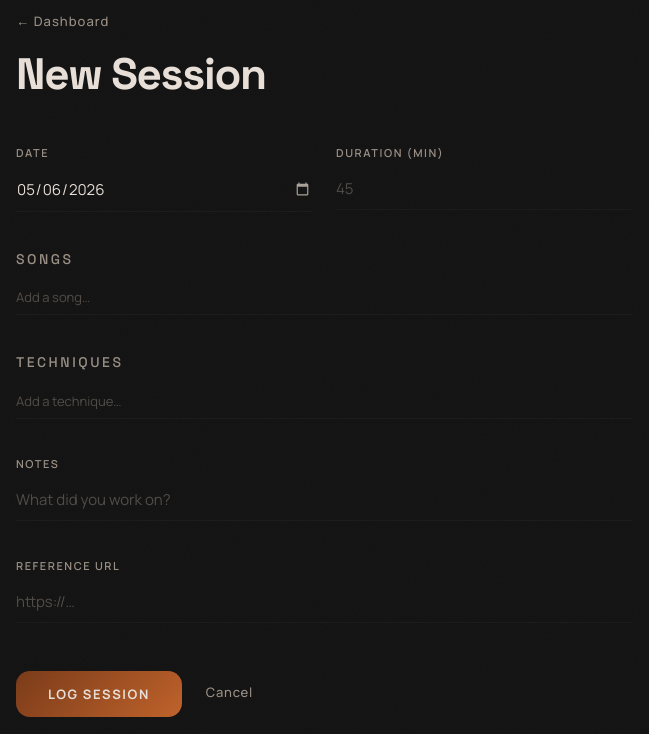
Test: create mode rendering › loads and renders the techniques library
Click the field with placeholder "Add a technique…". click: (324, 401)
box: [16,384,632,419]
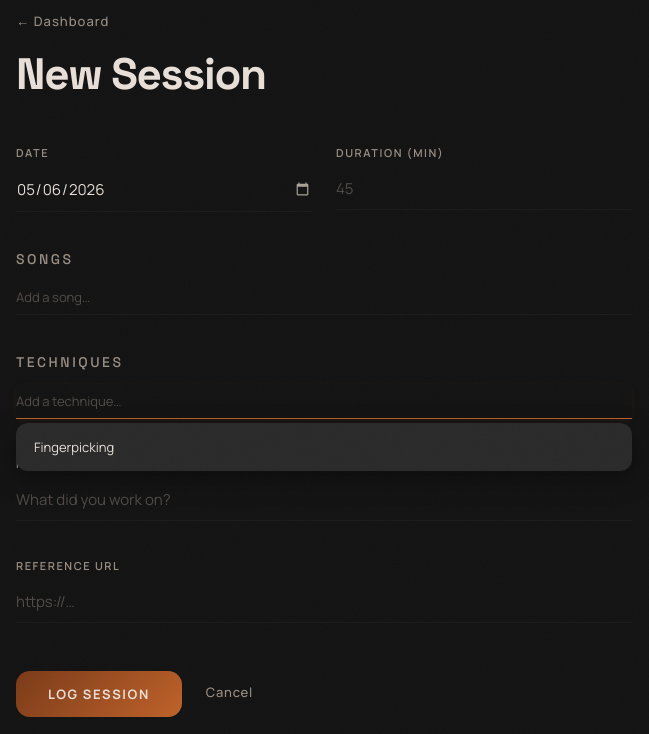
Now the option "Fingerpicking" is shown, box [34,438,114,456]
